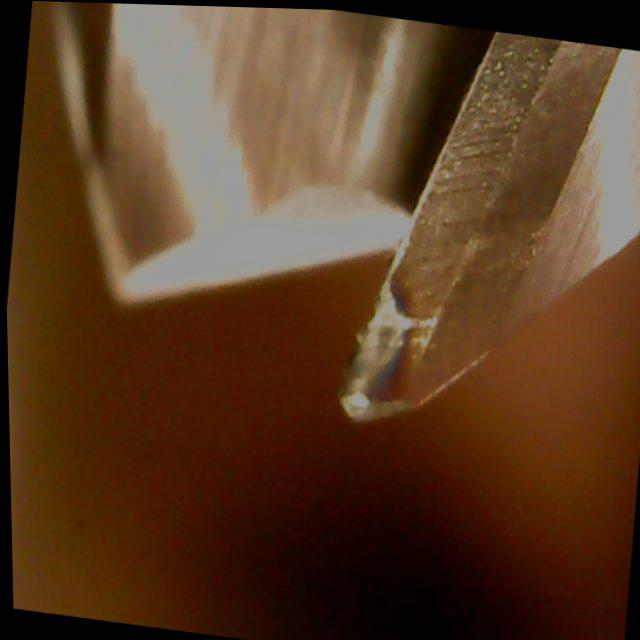Tool-wear-class-1: (323, 95, 543, 451)
